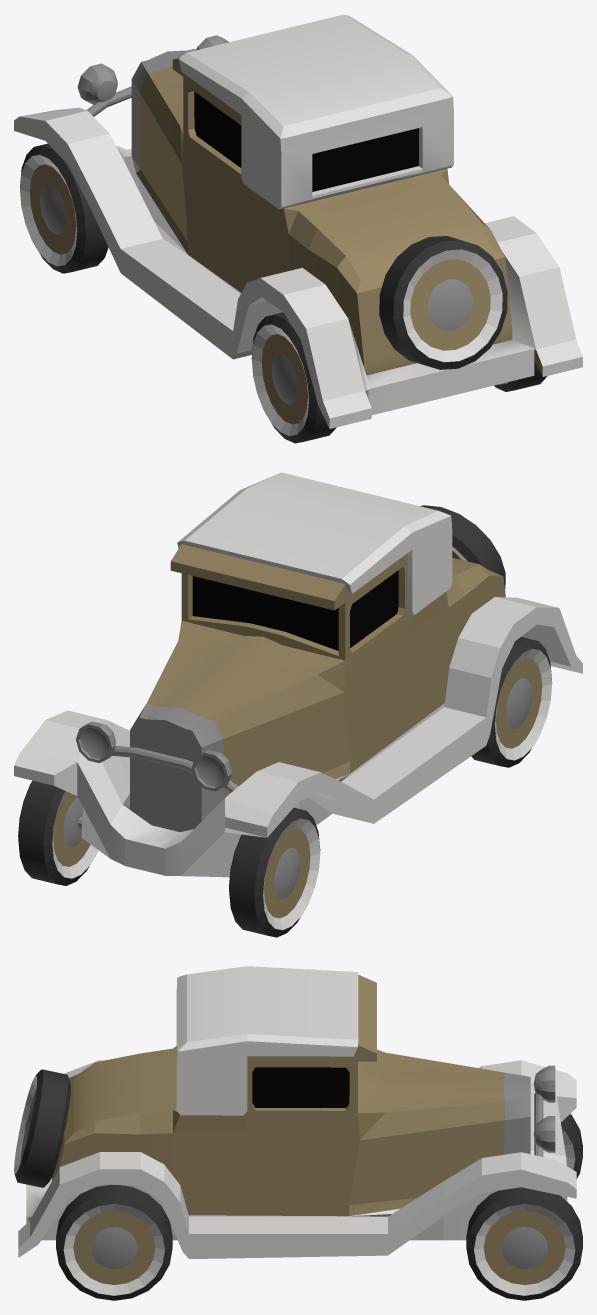
The model's file is wreck_fbx.fbx.
3 renders of one model, top to bottom at view 1: azimuth 30°, elevation 25°; view 2: azimuth 150°, elevation 25°; view 3: azimuth 270°, elevation 25°, orthographic. The views are drawn at different scales.
Visible parts, largest first — view 1: car, spare_tire, wheel_top_left, wheel_bot_left, left_headlight; view 2: car, wheel_top_left, wheel_bot_left, wheel_top_right, spare_tire, left_headlight, right_headlight, bar; view 3: car, wheel_bot_right, wheel_top_right, spare_tire, wheel_top_left, right_headlight, left_headlight.
Boxes of the visible parts, x1,y1,x2,y2 form: car: (14, 14, 582, 428); spare_tire: (379, 236, 507, 369); wheel_top_left: (20, 143, 108, 273); wheel_bot_left: (251, 312, 336, 443); left_headlight: (77, 63, 117, 104); car: (14, 472, 582, 877); wheel_top_left: (229, 807, 320, 937); wheel_bot_left: (471, 637, 552, 767); wheel_top_right: (18, 780, 98, 885); spare_tire: (420, 505, 505, 589); left_headlight: (191, 750, 231, 791); right_headlight: (76, 721, 115, 763); bar: (112, 746, 238, 792); car: (18, 966, 576, 1258); wheel_bot_right: (56, 1184, 172, 1300); wheel_top_right: (466, 1187, 582, 1300); spare_tire: (14, 1069, 70, 1187); wheel_top_left: (561, 1114, 582, 1178); right_headlight: (533, 1116, 555, 1152); left_headlight: (533, 1065, 555, 1102).
Bounding box in the file's own units: 9.61 × 10.24 × 21.13.
